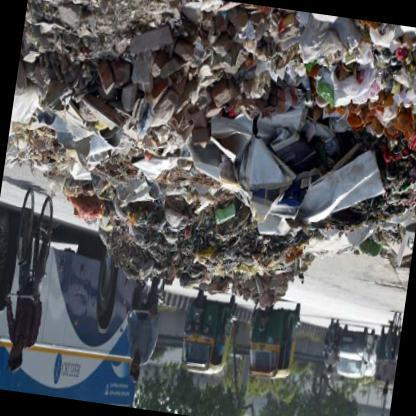Garbage: (7, 0, 415, 216), (109, 0, 344, 274), (223, 125, 332, 267), (202, 0, 339, 107), (41, 57, 154, 171), (115, 140, 220, 262), (336, 20, 415, 178), (127, 233, 281, 296)
